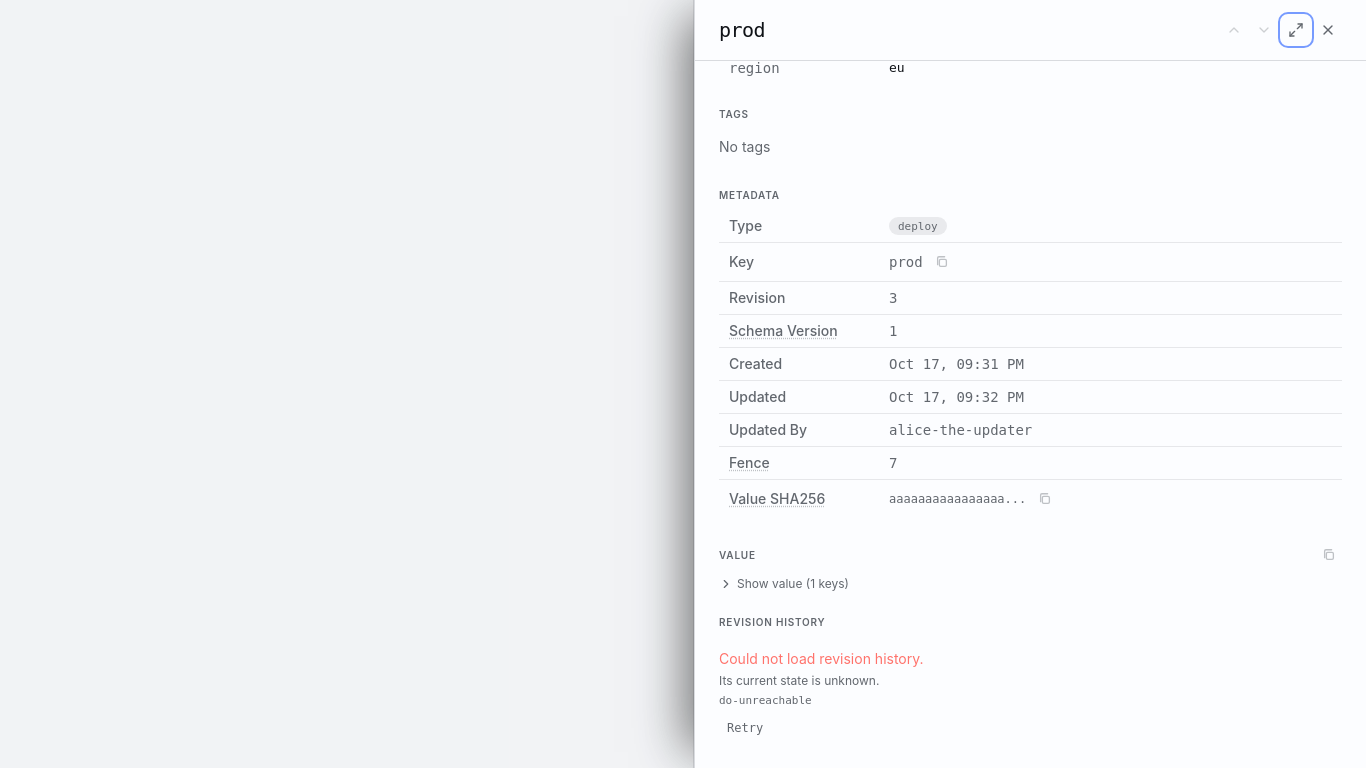
Test: RecordDetailPage revision history › a failed history request is an error with retry, not 'No history available'
(page scrolled)
Check: the text "alice-the-updater" is shown, box [879,414,1342,446]
Check: the message shows "Could not load revision history.", box [719,650,924,740]
What coordinates should you click on to do the following:
click the button "Retry"
I would click on:
 (745, 728)
Its box is [719,716,771,740].
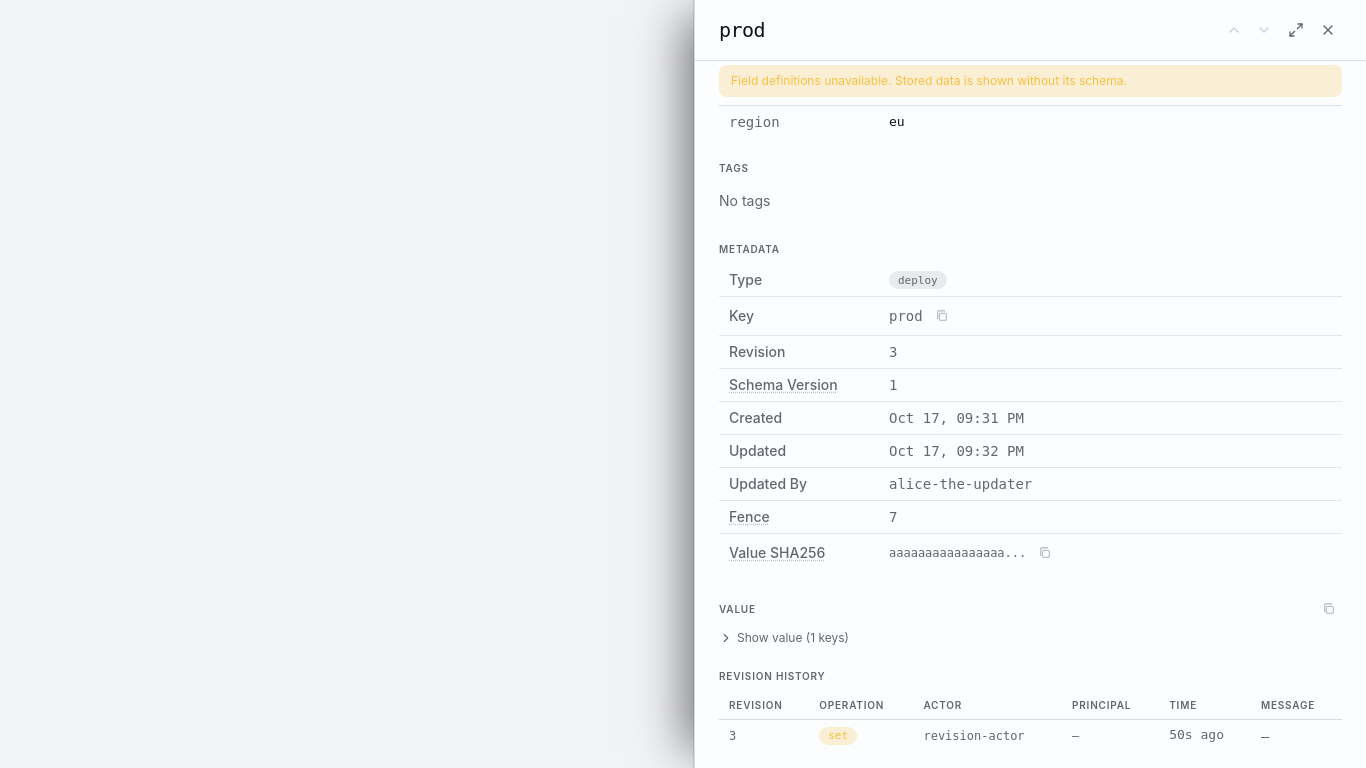
Check: the text "revision-actor" is shown, box [913,719,1062,752]
